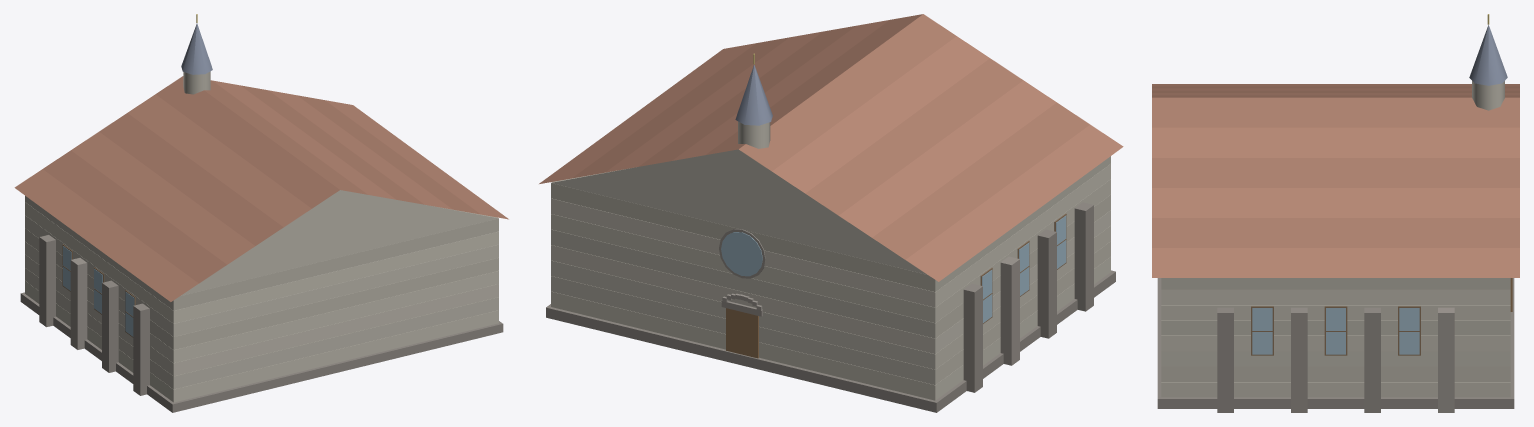
File: temple.glb
The picture shows the model from 3 angles, left to right: view 1: azimuth 30°, elevation 25°; view 2: azimuth 150°, elevation 25°; view 3: azimuth 270°, elevation 25°; orthographic projection. The views are drawn at different scales.
Visible parts, largest first — view 1: temple; view 2: temple; view 3: temple.
Part boxes in pixels (x1,y1,x2,y2): temple: [14, 14, 508, 412]; temple: [539, 14, 1123, 412]; temple: [1152, 14, 1519, 412].
Bounding box in the file's own units: 25.4 × 18 × 20.
